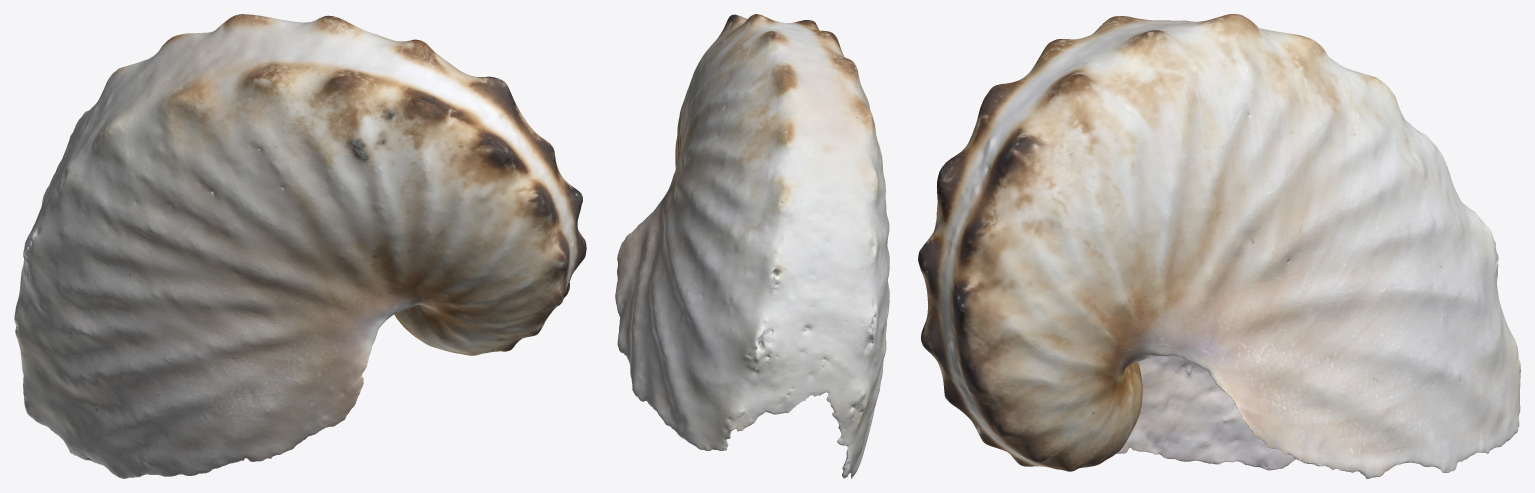
Rendered from MZUR3D-045.glb.
The picture shows the model from 3 angles, left to right: view 1: azimuth 30°, elevation 25°; view 2: azimuth 150°, elevation 25°; view 3: azimuth 270°, elevation 25°; orthographic projection. The views are drawn at different scales.
Visible parts, largest first — view 1: MZUR3D-045; view 2: MZUR3D-045; view 3: MZUR3D-045.
Part boxes in pixels (<box>): MZUR3D-045: <box>14,14,586,478</box>; MZUR3D-045: <box>615,14,889,478</box>; MZUR3D-045: <box>918,14,1520,478</box>.
Bounding box in the file's own units: 1.98 × 2.22 × 2.31.
Materials: 1 (1 with a texture image).
